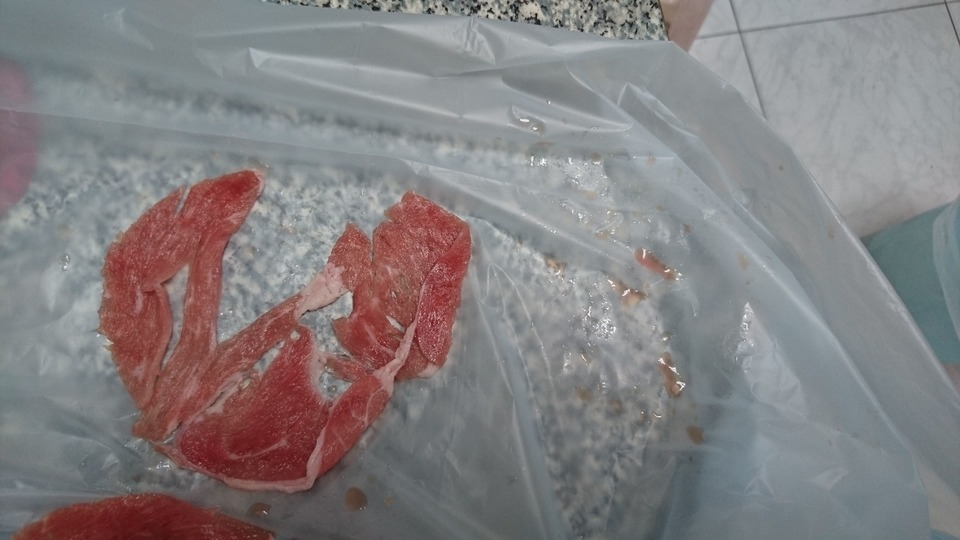restructured meat: (112, 182, 479, 485)
